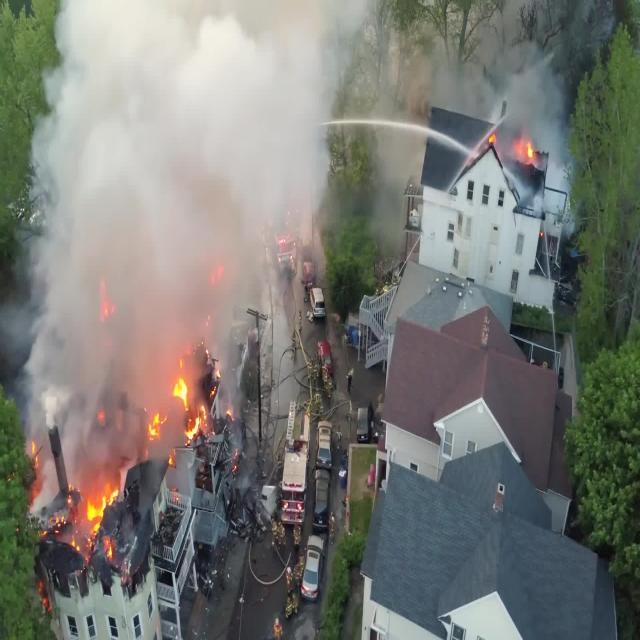Fire: (9, 268, 250, 606), (458, 104, 566, 216)
Smoke: (9, 0, 364, 589), (476, 45, 590, 228)
